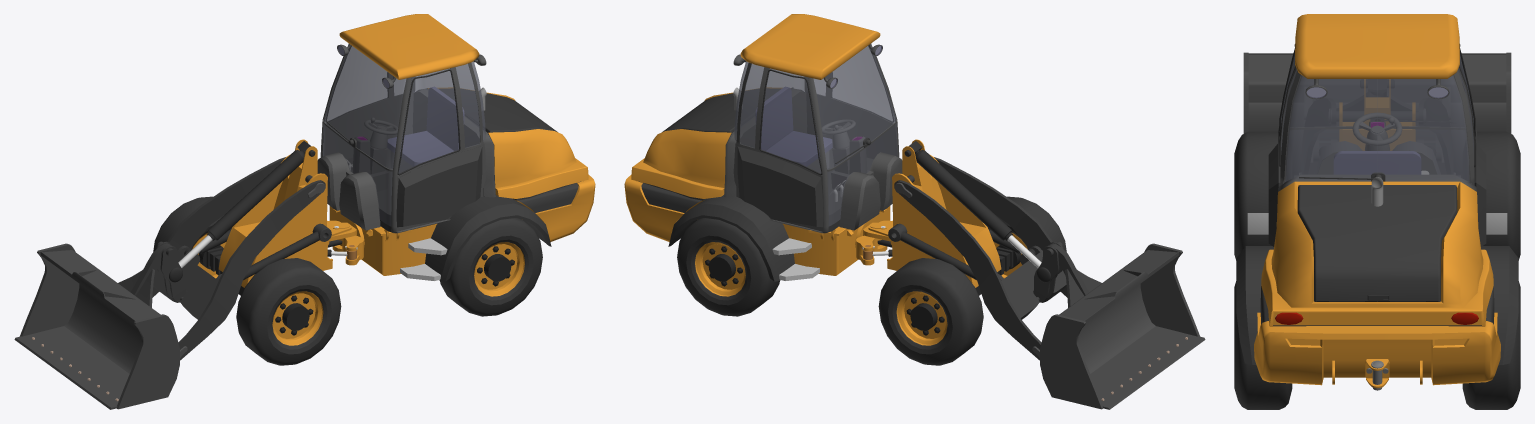
Rendered from JCBLoaderFrame.fbx.
3 renders of one model, left to right at view 1: azimuth 30°, elevation 25°; view 2: azimuth 150°, elevation 25°; view 3: azimuth 270°, elevation 25°, orthographic. The views are drawn at different scales.
Parts seen in each view (by area): view 1: pCube79; view 2: pCube79; view 3: pCube79.
Part boxes in pixels (<box>): pCube79: <box>14,14,595,409</box>; pCube79: <box>624,14,1205,409</box>; pCube79: <box>1234,14,1520,409</box>.
Size of the model in its own units: 31.17 by 14.8 by 11.33.
